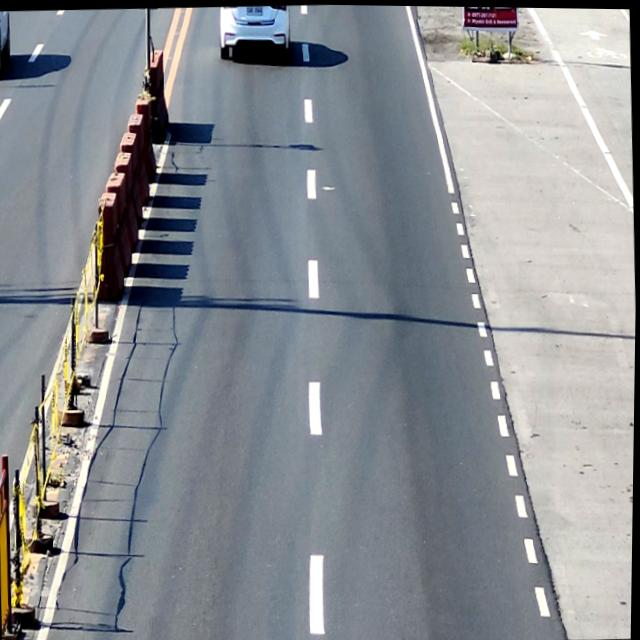Car: (219, 4, 291, 60), (0, 10, 11, 74)
License-Plate: (245, 4, 262, 16)
